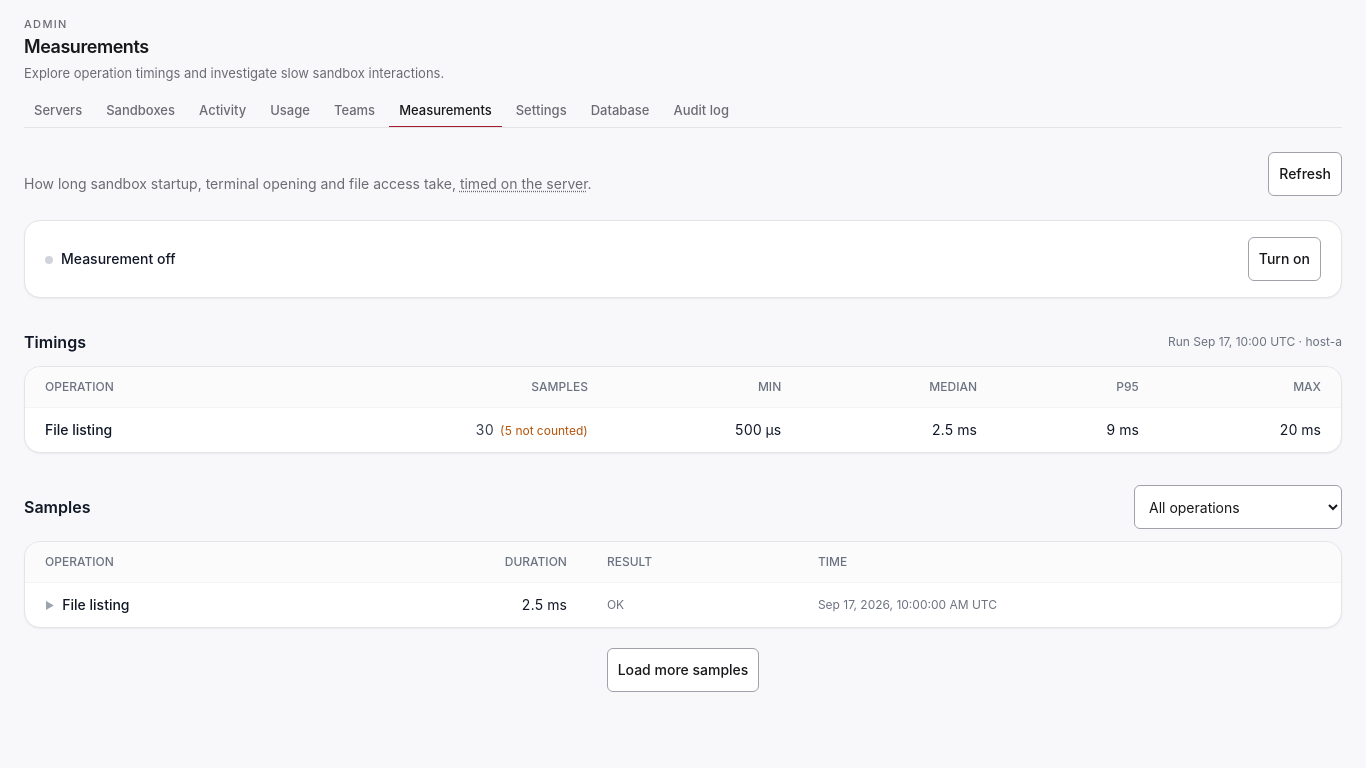
admin measurements page › loads more samples after the last one it has
Click the button "Load more samples" at (683, 670), box 607,648 -> 759,692
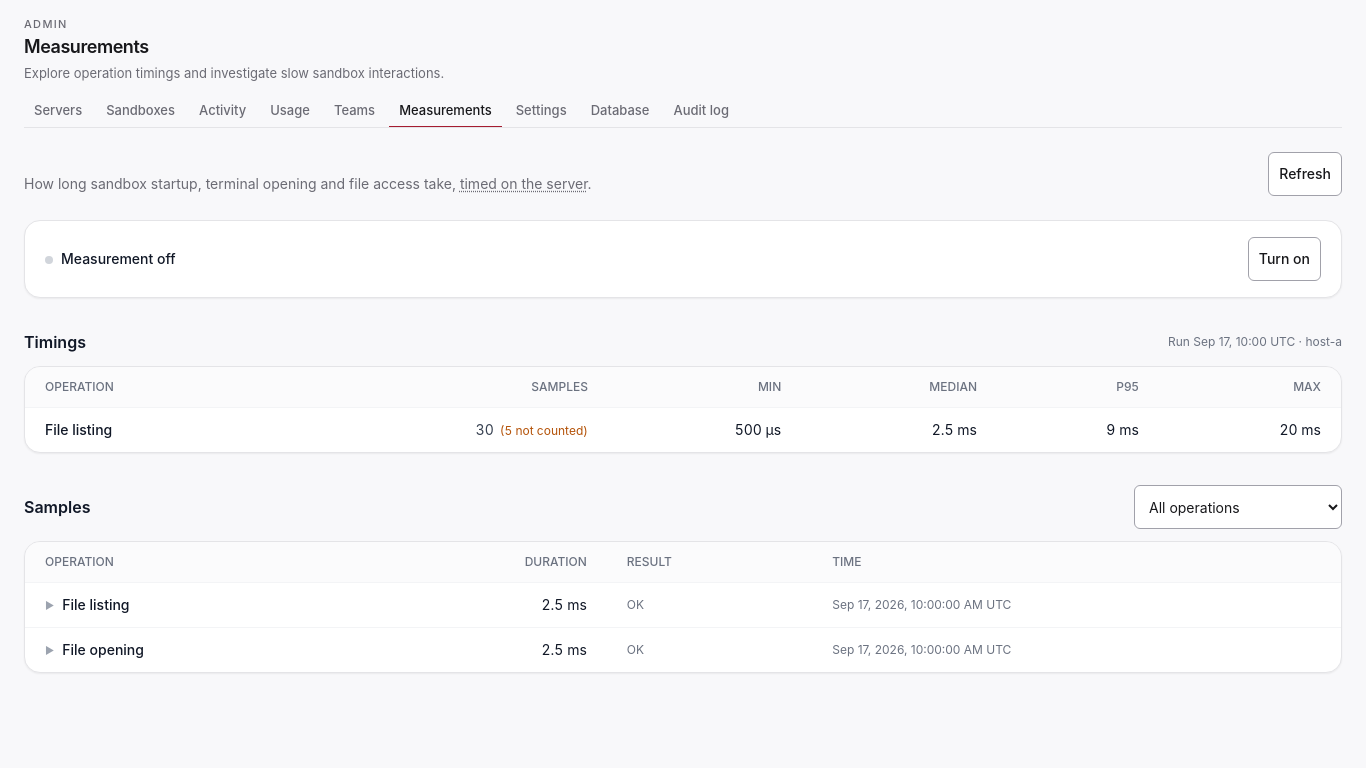
expect the button "▶ File listing" is shown: met, box 45,595 -> 130,615
expect the button "Load more samples" is gone: met
